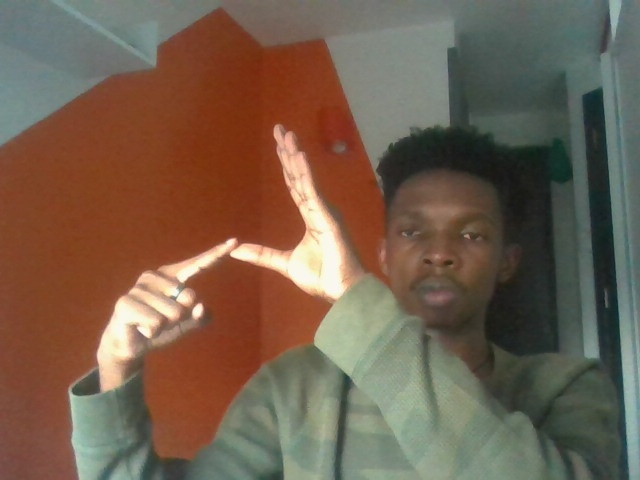BSL-A: (116, 120, 343, 345)
